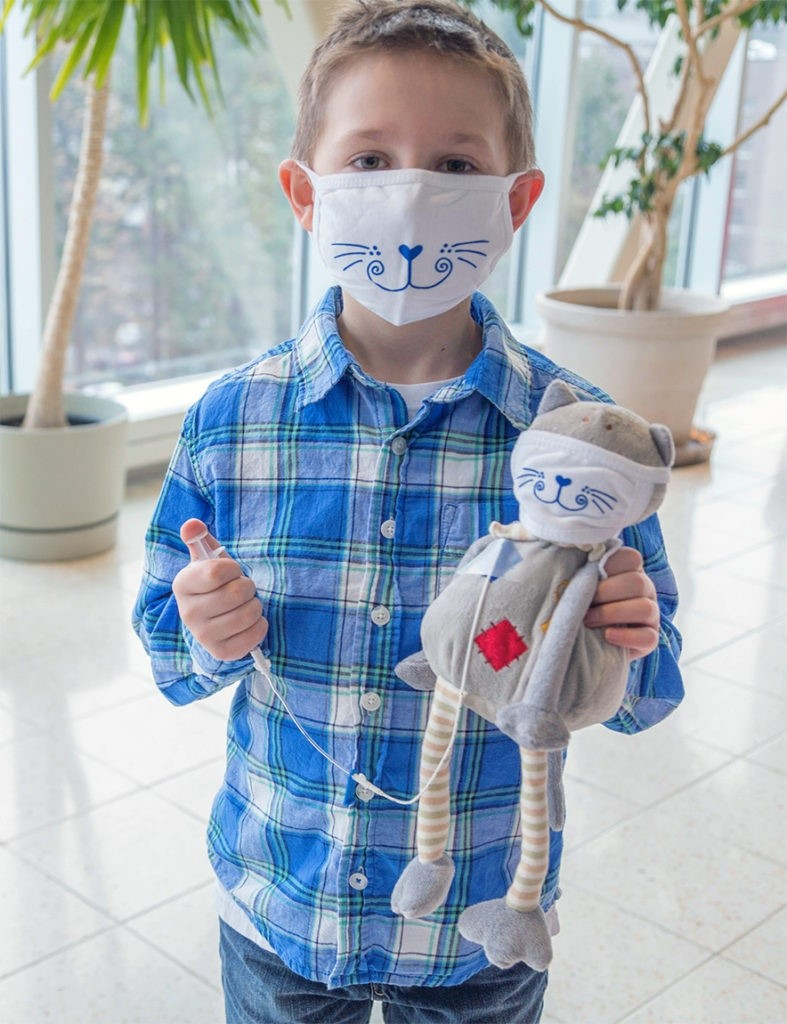face_no_mask: (262, 21, 550, 349)
